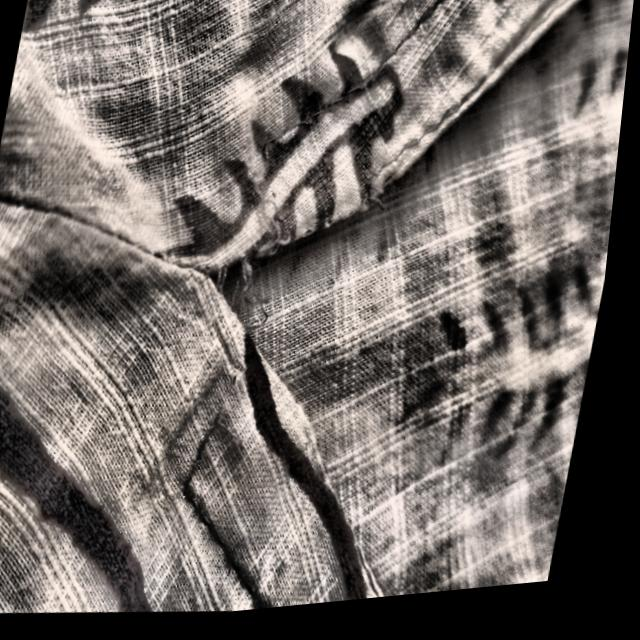Stitch: (183, 177, 296, 384)
